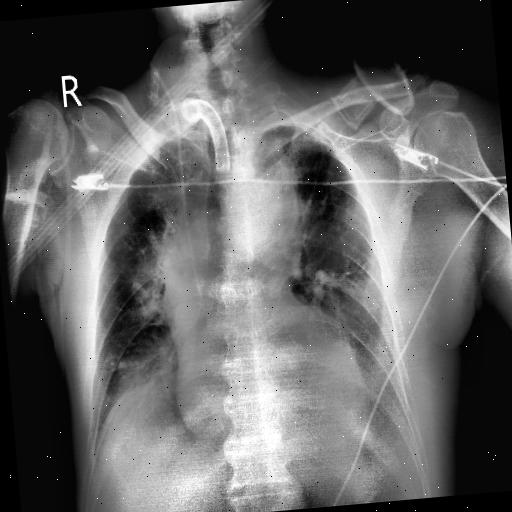0- Aortic enlargement: (230, 168, 300, 268), (241, 172, 304, 275), (234, 164, 306, 254)
10- Pleural effusion: (344, 274, 406, 407)
3- Cardiomegaly: (166, 330, 368, 456), (172, 330, 365, 434), (172, 343, 364, 447)
7- Lung Opacity: (247, 126, 402, 388), (319, 184, 392, 410), (151, 228, 228, 350), (152, 222, 226, 344), (234, 164, 306, 254), (112, 338, 180, 405), (124, 252, 176, 326)
